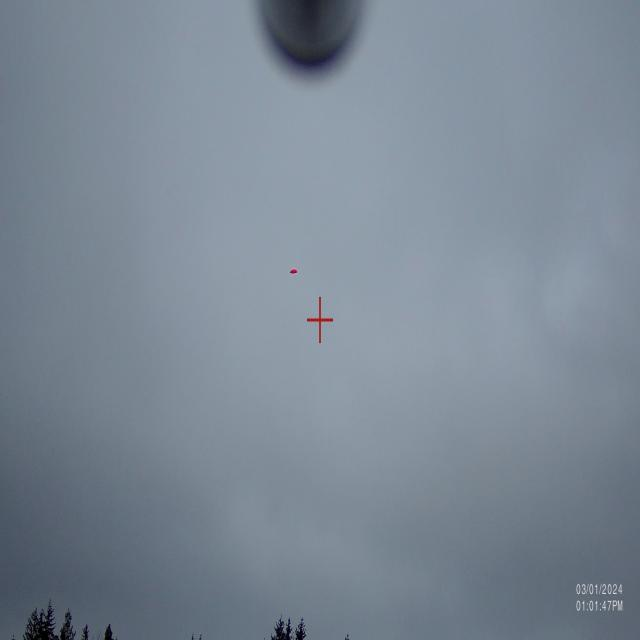entire: (282, 264, 302, 288)
